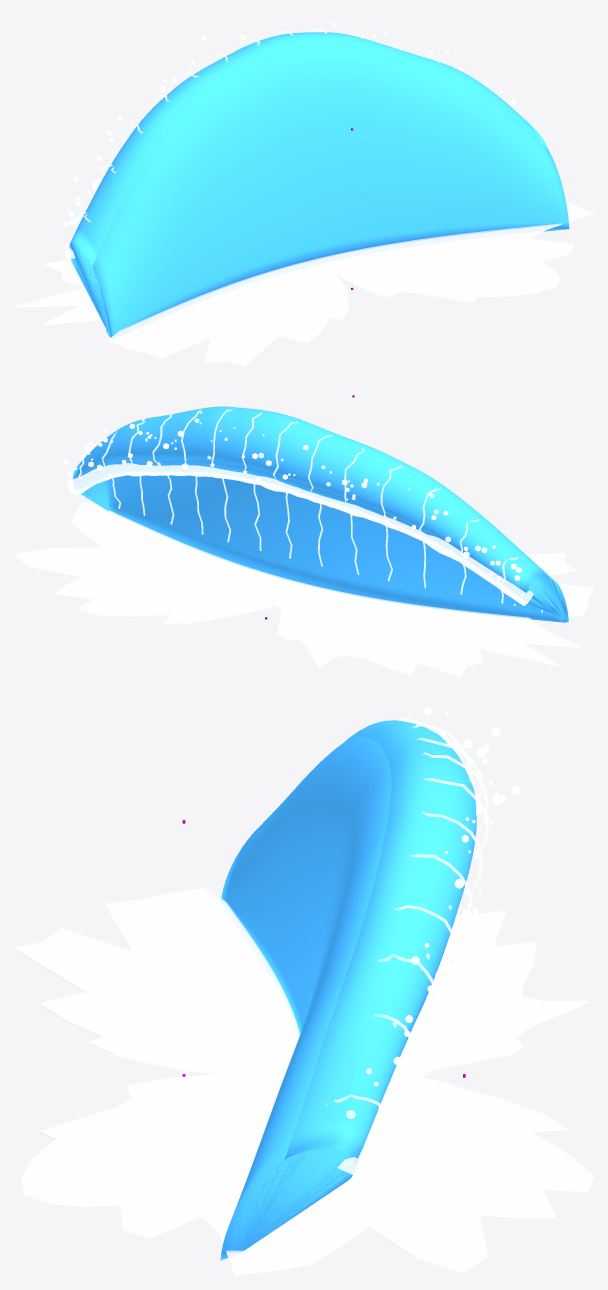
File: WaterUltimate.fbx
3 views of the same model, one above another, from view 1: azimuth 30°, elevation 25°; view 2: azimuth 150°, elevation 25°; view 3: azimuth 270°, elevation 25° (orthographic). The views are drawn at different scales.
Visible parts, largest first — view 1: Wave, Foam, Spray, Swirl; view 2: Wave, Foam, Crest, Swirl, Spray; view 3: Foam, Wave, Swirl, Spray, Crest.
Boxes of the visible parts, x1=… form: Wave: x1=69, y1=32, x2=569, y2=337; Foam: x1=14, y1=201, x2=593, y2=366; Spray: x1=63, y1=14, x2=522, y2=253; Swirl: x1=74, y1=28, x2=519, y2=229; Wave: x1=72, y1=406, x2=568, y2=622; Foam: x1=14, y1=502, x2=593, y2=677; Crest: x1=68, y1=463, x2=533, y2=605; Swirl: x1=78, y1=409, x2=542, y2=612; Spray: x1=63, y1=411, x2=523, y2=605; Foam: x1=14, y1=888, x2=593, y2=1275; Wave: x1=220, y1=720, x2=476, y2=1260; Swirl: x1=326, y1=718, x2=489, y2=1130; Spray: x1=346, y1=706, x2=520, y2=1157; Crest: x1=337, y1=897, x2=461, y2=1180.
Bounding box in the file's own units: 34.88 × 12.51 × 20.69.
